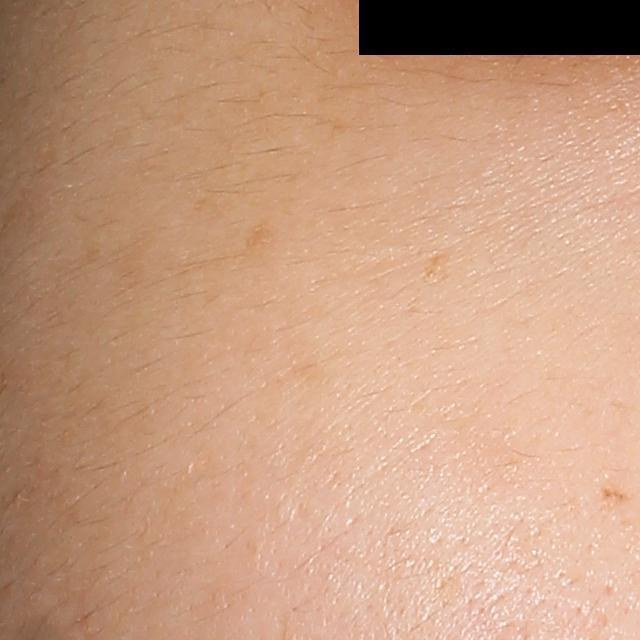melasma: (414, 250, 453, 286)
